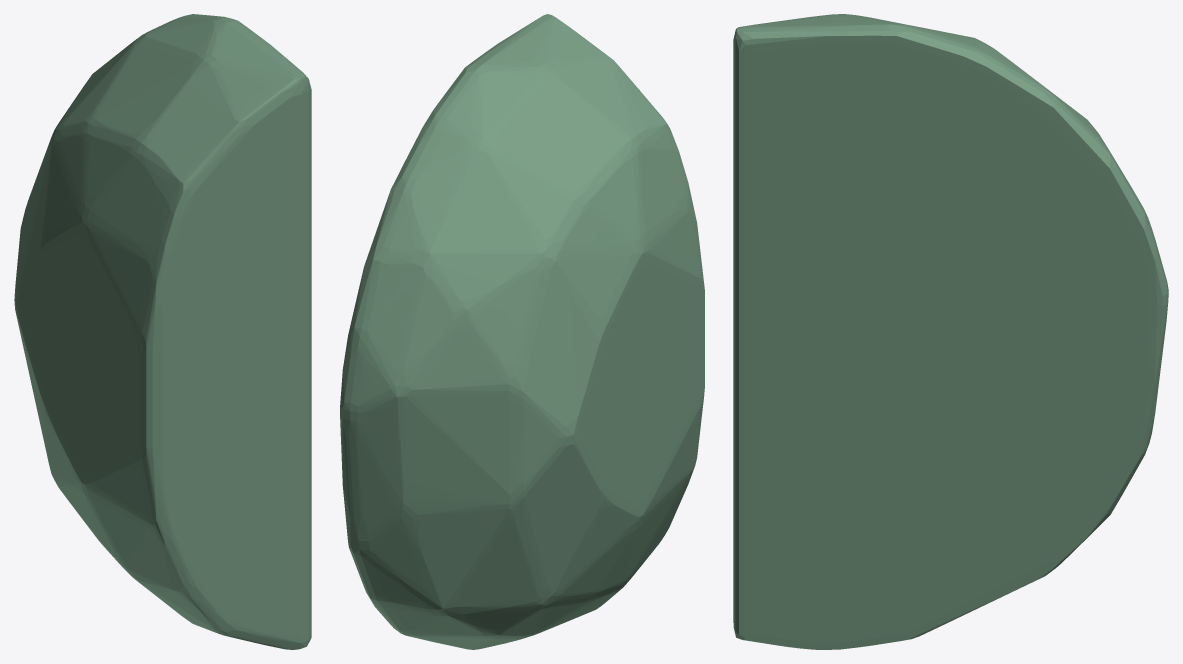
Rendered from left_f_middle_part_0.obj.
3 views of the same model, side by side, from view 1: azimuth 30°, elevation 25°; view 2: azimuth 150°, elevation 25°; view 3: azimuth 270°, elevation 25° (orthographic). The views are drawn at different scales.
Bounding box in the file's own units: 4.79 × 16.15 × 10.24.
